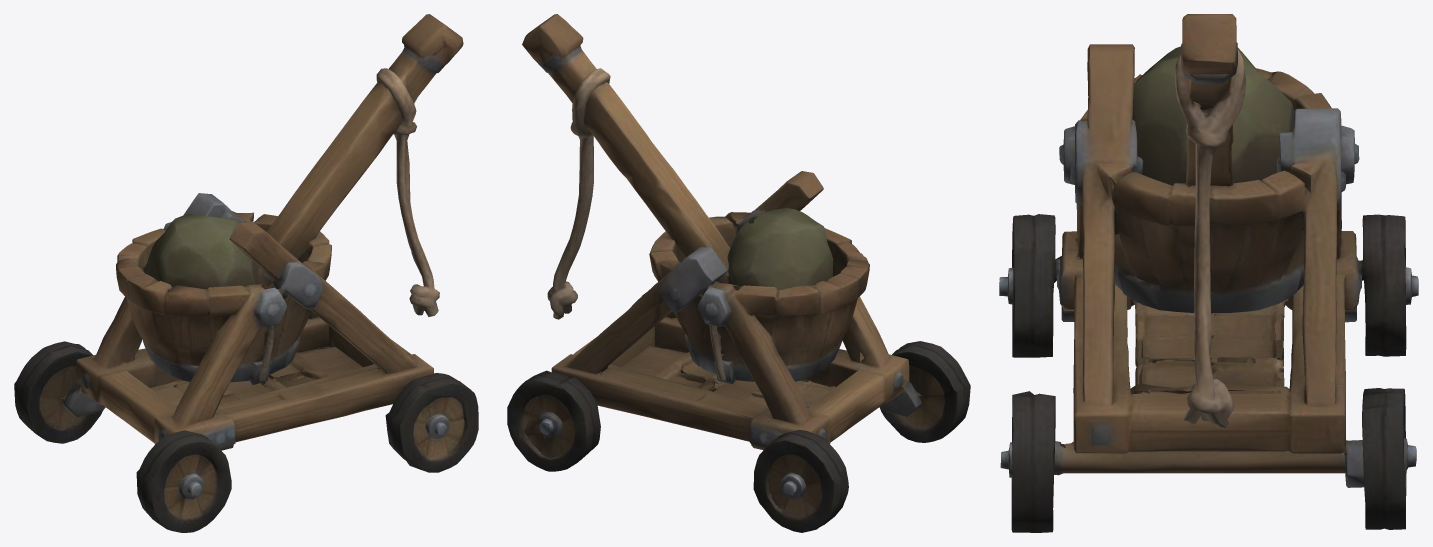
The model's file is catapult.glb.
3 views of the same model, side by side, from view 1: azimuth 30°, elevation 25°; view 2: azimuth 150°, elevation 25°; view 3: azimuth 270°, elevation 25° (orthographic). The views are drawn at different scales.
Visible parts, largest first — view 1: RETOPO; view 2: RETOPO; view 3: RETOPO.
Part boxes in pixels (<box>): RETOPO: <box>14,14,478,532</box>; RETOPO: <box>507,14,970,532</box>; RETOPO: <box>999,14,1418,532</box>.
Size of the model in its own units: 0.9995 by 0.9801 by 0.6678.
Materials: 1 (1 with a texture image).
